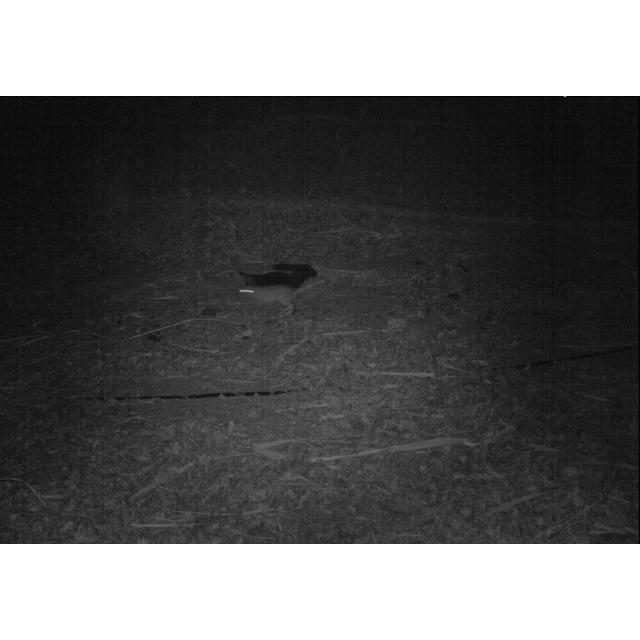animals: (234, 276, 326, 314)
